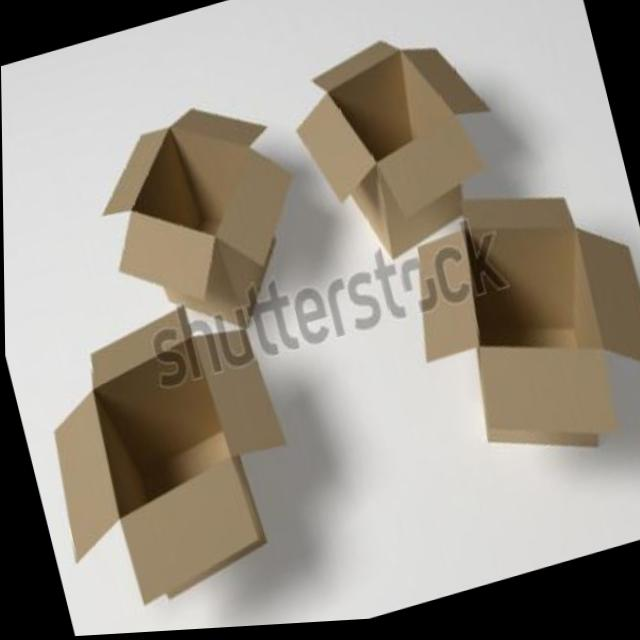box: (14, 277, 336, 639), (379, 153, 640, 540), (259, 0, 550, 293), (64, 49, 317, 370)
